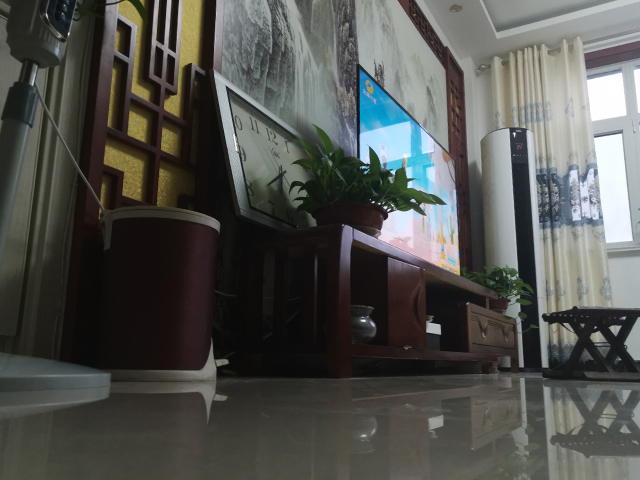cabinet: (228, 220, 520, 381)
curtain: (487, 36, 619, 370)
stool: (538, 303, 640, 383)
trashcan: (98, 204, 223, 384)
